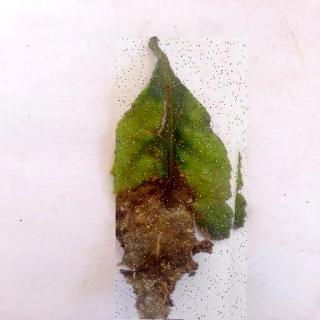Brown Blight: (116, 38, 247, 320)
